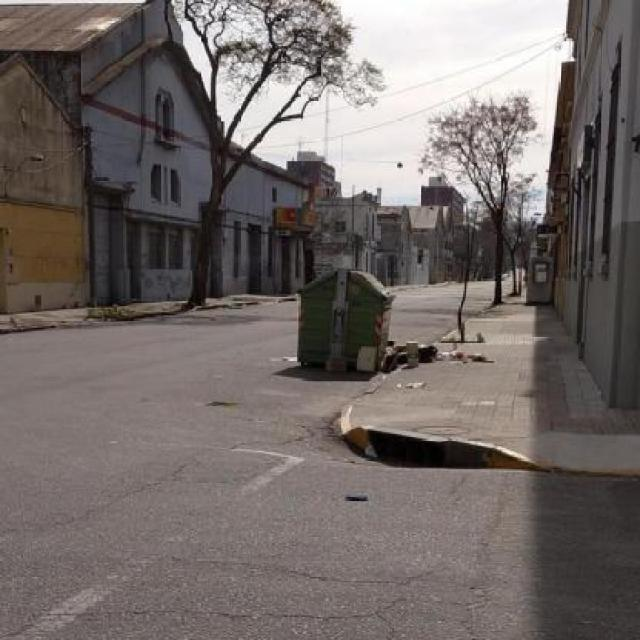garbage: (349, 323, 518, 390)
